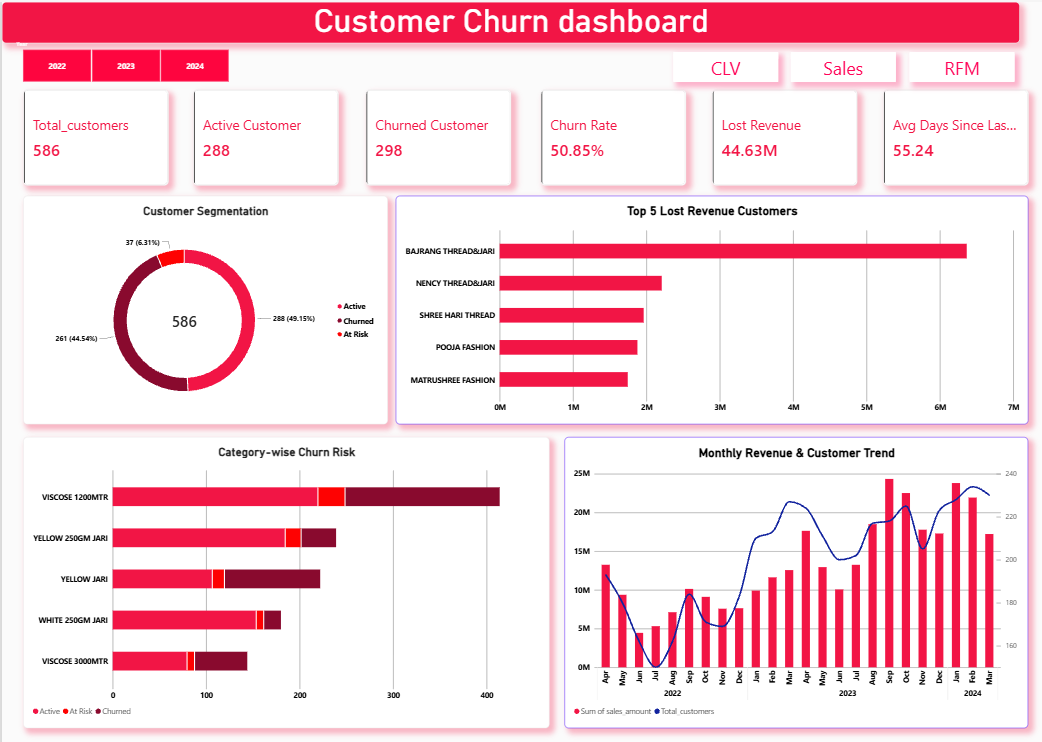

Layout of this report page (visuals, bound fields, positions):
{"tool":"powerbi","page":{"name":"churn","canvas":[2560,1440],"ordinal":2},"visuals":[{"type":"shape","title":"Customer Churn  dashboard","box":[0,0,1898.3,76.7],"z":0},{"type":"cardVisual","fields":{"Data":["cleanfile.Total_customers"]},"box":[39.3,162.2,271.4,179.2],"z":1000},{"type":"cardVisual","fields":{"Data":["cleanfile.Active Customer"]},"box":[357.7,162.2,271.4,179.2],"z":2000},{"type":"cardVisual","fields":{"Data":["cleanfile.Churned Customer"]},"box":[679.3,162.2,271.4,179.2],"z":3000},{"type":"cardVisual","fields":{"Data":["cleanfile.Churn Rate"]},"box":[1004.3,162.2,271.4,179.2],"z":4000},{"type":"cardVisual","fields":{"Data":["cleanfile.Lost Revenue"]},"box":[1324.3,162.2,271.4,179.2],"z":5000},{"type":"cardVisual","fields":{"Data":["cleanfile.Avg Days Since Last Order"]},"box":[1642.7,162.2,271.4,179.2],"z":6000},{"type":"donutChart","title":"Customer Segmentation","fields":{"Category":["cleanfile.Customer Status"],"Y":["cleanfile.Total_customers"]},"box":[39.3,360.5,680,426.7],"z":7000},{"type":"clusteredBarChart","title":"Top 5 Lost Revenue Customers","fields":{"Category":["cleanfile.Customer Name"],"Y":["cleanfile.Lost Revenue"]},"box":[734.3,360.5,1180,426.7],"z":8000},{"type":"barChart","title":"Category-wise Churn Risk","fields":{"Y":["cleanfile.Total_customers"],"Series":["cleanfile.Customer Status"],"Category":["cleanfile.Product Category"]},"box":[39.3,810.5,981.7,543.3],"z":9000},{"type":"lineStackedColumnComboChart","title":"Monthly Revenue & Customer Trend","fields":{"Y":["Sum(cleanfile.sales_amount)"],"Y2":["cleanfile.Total_customers"],"Category":["DateTable.Year","DateTable.Month"]},"box":[1049.3,810.5,865,543.3],"z":10000},{"type":"slicer","fields":{"Values":["DateTable.Year"]},"box":[18.3,71.7,423.3,78.3],"z":11000},{"type":"actionButton","title":"Sales Dashboard","box":[1252.4,93.6,196,56],"z":12000},{"type":"actionButton","title":"Sales Dashboard","box":[1692.4,93.6,196,56],"z":13000},{"type":"actionButton","title":"Sales Dashboard","box":[1472.4,93.6,196,56],"z":14000}]}

Visuals, with their boxes on the page's 2560x1440 design canvas (x1, y1, x2, y2). These are canvas units, not pixel positions in the 1042x742 screenshot, which may show the page scaled, cropped or inside an application window:
"Customer Churn  dashboard" shape: [left=0, top=0, right=1898, bottom=77]
cardVisual - cleanfile.Total_customers: [left=39, top=162, right=311, bottom=341]
cardVisual - cleanfile.Active Customer: [left=358, top=162, right=629, bottom=341]
cardVisual - cleanfile.Churned Customer: [left=679, top=162, right=951, bottom=341]
cardVisual - cleanfile.Churn Rate: [left=1004, top=162, right=1276, bottom=341]
cardVisual - cleanfile.Lost Revenue: [left=1324, top=162, right=1596, bottom=341]
cardVisual - cleanfile.Avg Days Since Last Order: [left=1643, top=162, right=1914, bottom=341]
"Customer Segmentation" donutChart: [left=39, top=360, right=719, bottom=787]
"Top 5 Lost Revenue Customers" clusteredBarChart: [left=734, top=360, right=1914, bottom=787]
"Category-wise Churn Risk" barChart: [left=39, top=810, right=1021, bottom=1354]
"Monthly Revenue & Customer Trend" lineStackedColumnComboChart: [left=1049, top=810, right=1914, bottom=1354]
slicer - DateTable.Year: [left=18, top=72, right=442, bottom=150]
"Sales Dashboard" actionButton: [left=1252, top=94, right=1448, bottom=150]
"Sales Dashboard" actionButton: [left=1692, top=94, right=1888, bottom=150]
"Sales Dashboard" actionButton: [left=1472, top=94, right=1668, bottom=150]
